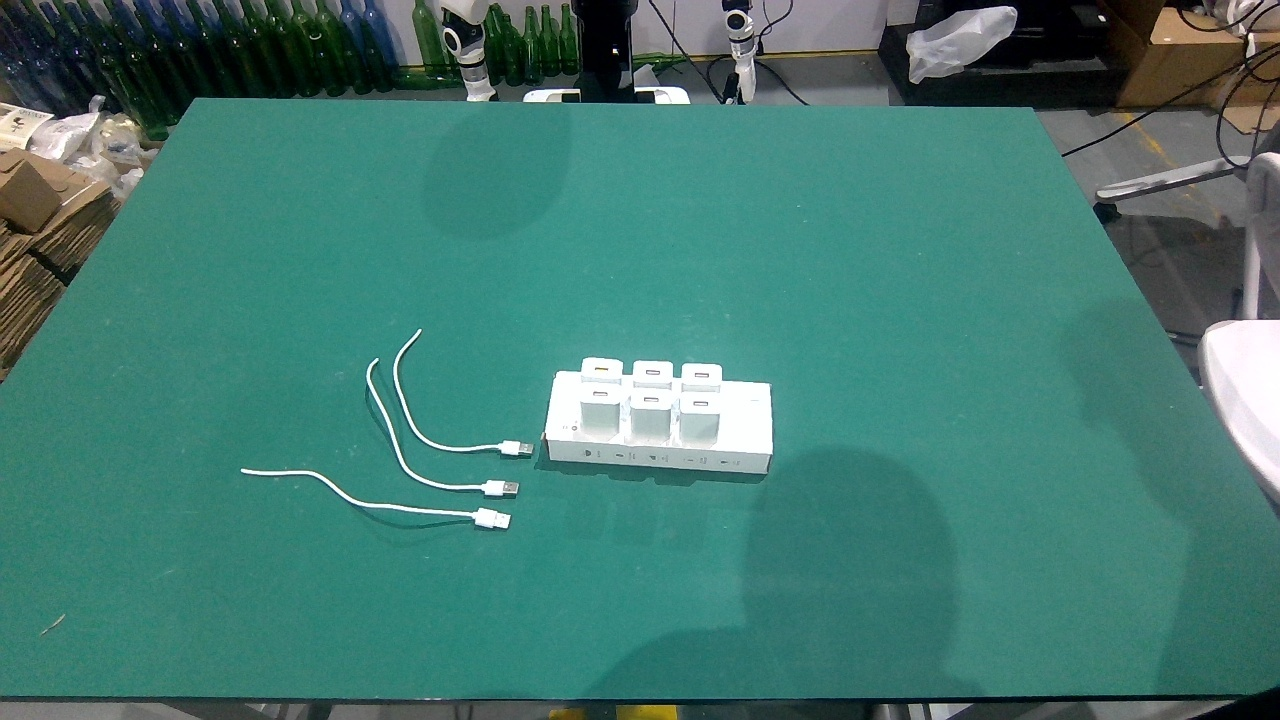usb_a_plug: (455, 502, 515, 533), (482, 436, 537, 459), (464, 479, 523, 496)
